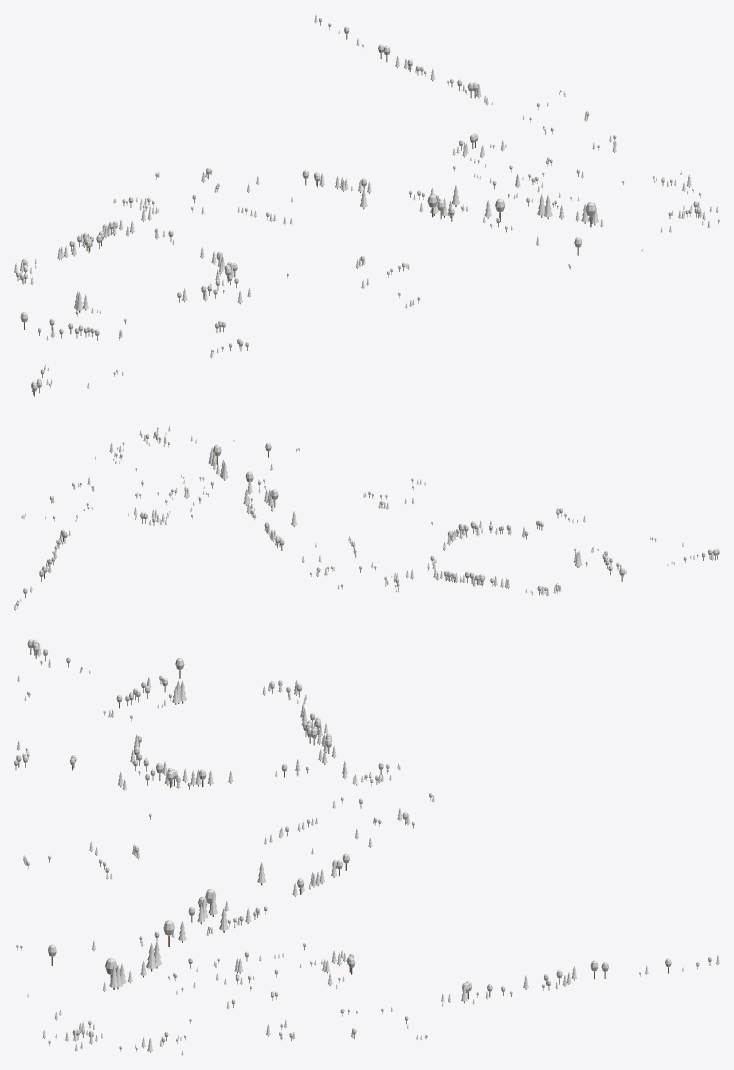
The model's file is stromy.glb.
3 renders of one model, top to bottom at view 1: azimuth 30°, elevation 25°; view 2: azimuth 150°, elevation 25°; view 3: azimuth 270°, elevation 25°, orthographic. The views are drawn at different scales.
Parts seen in each view (by area): view 1: Stromy_Ihlicnate_01_02, Stromy_Listnate_01_02; view 2: Stromy_Ihlicnate_01_02, Stromy_Listnate_01_02; view 3: Stromy_Ihlicnate_01_02, Stromy_Listnate_01_02.
Boxes of the visible parts, left/top/right/bottom form: Stromy_Ihlicnate_01_02: left=14, top=14, right=718, bottom=392; Stromy_Listnate_01_02: left=16, top=17, right=719, bottom=396; Stromy_Ihlicnate_01_02: left=14, top=425, right=714, bottom=610; Stromy_Listnate_01_02: left=16, top=427, right=719, bottom=608; Stromy_Ihlicnate_01_02: left=17, top=642, right=719, bottom=1055; Stromy_Listnate_01_02: left=14, top=639, right=711, bottom=1051.
Bounding box in the file's own units: 708 × 32.24 × 526.
